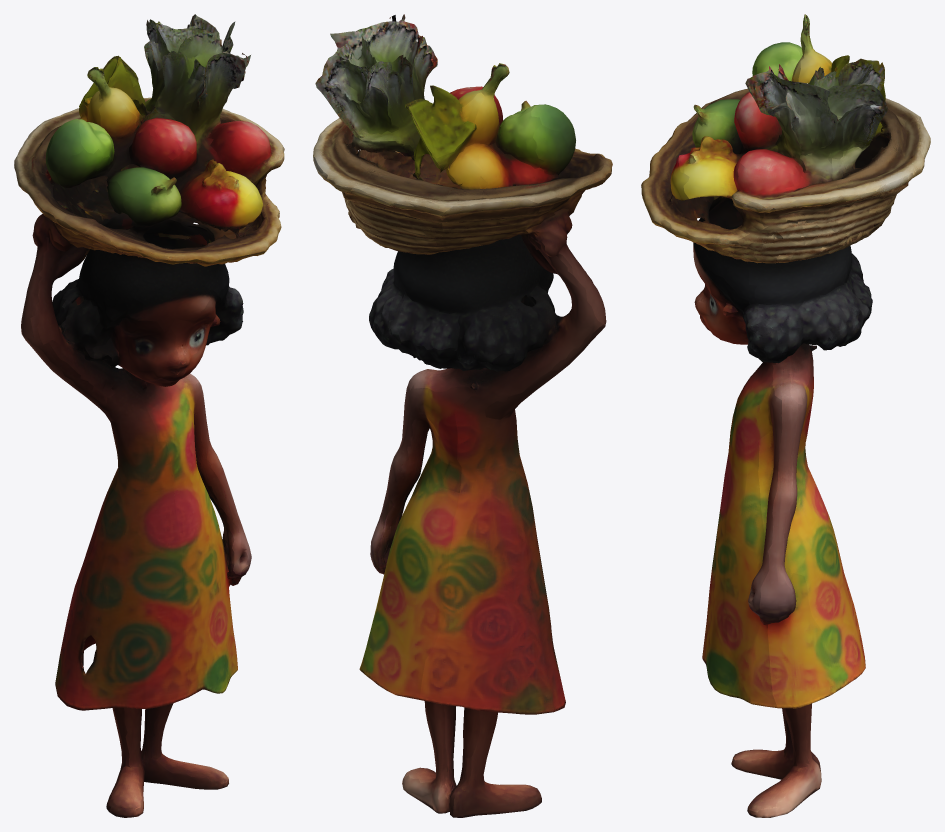
The model's file is A-3D-game-asset-of-a-Nigerian-market-woman-carry (1).glb.
3 views of the same model, side by side, from view 1: azimuth 30°, elevation 25°; view 2: azimuth 150°, elevation 25°; view 3: azimuth 270°, elevation 25° (orthographic). The views are drawn at different scales.
Parts seen in each view (by area): view 1: geometry_0; view 2: geometry_0; view 3: geometry_0.
Boxes of the visible parts, left/top/right/bottom form: geometry_0: left=14, top=14, right=284, bottom=817; geometry_0: left=313, top=14, right=612, bottom=817; geometry_0: left=641, top=14, right=930, bottom=817.
Bounding box in the file's own units: 0.3638 × 0.9966 × 0.3495.
1 material, 1 textured.
